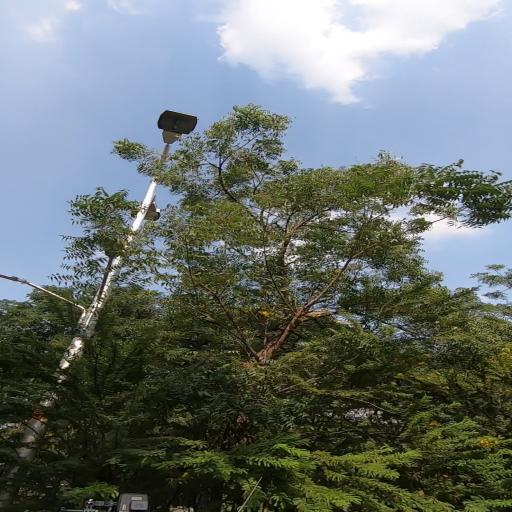Street_light: (146, 105, 204, 153)
